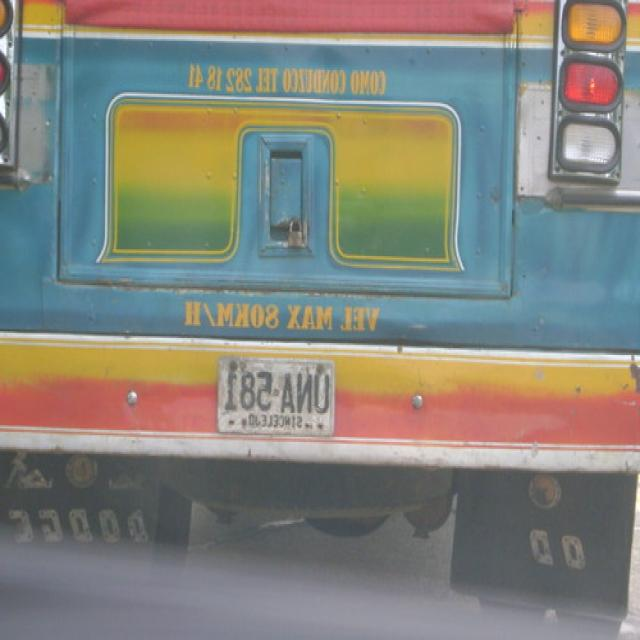placas: (220, 366, 328, 419)
